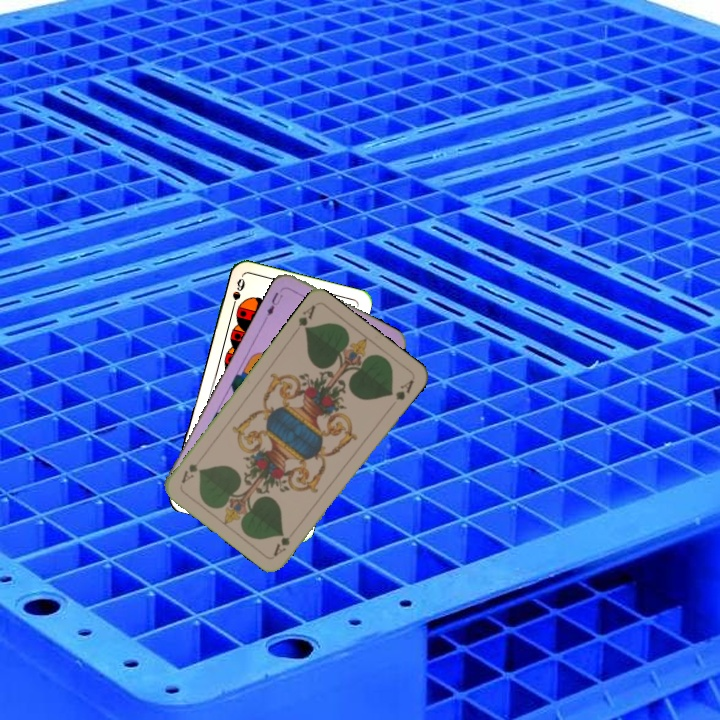EU: (262, 284, 286, 322)
GA: (294, 301, 318, 334), (269, 533, 293, 559)
S9: (227, 274, 248, 314)
